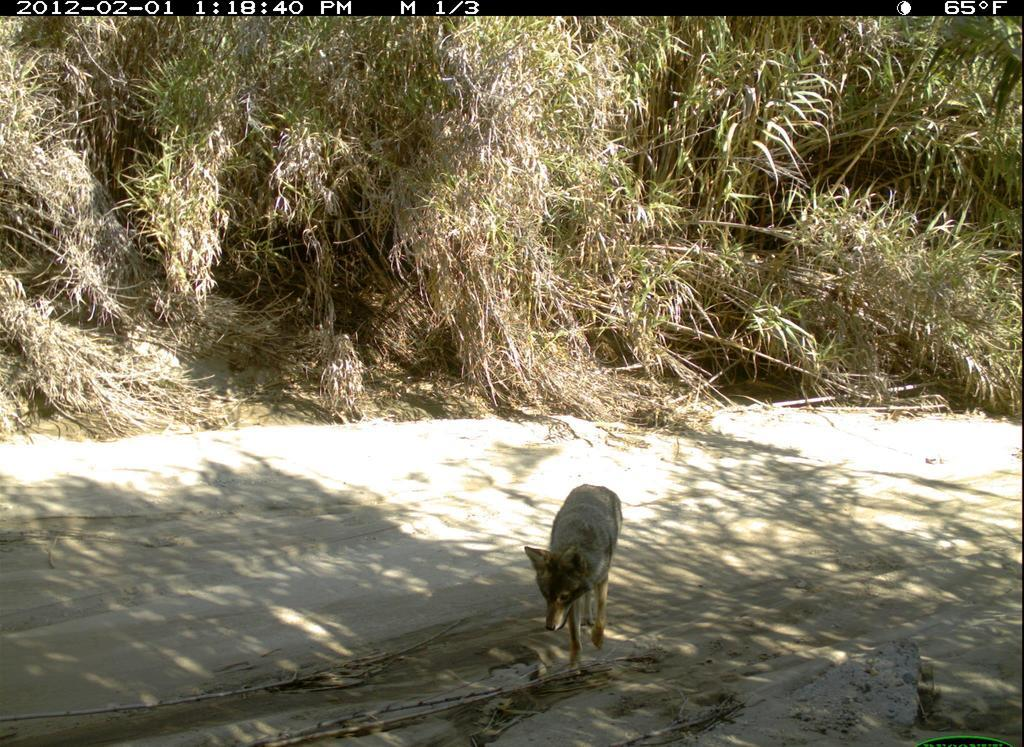coyote: (523, 481, 624, 679)
